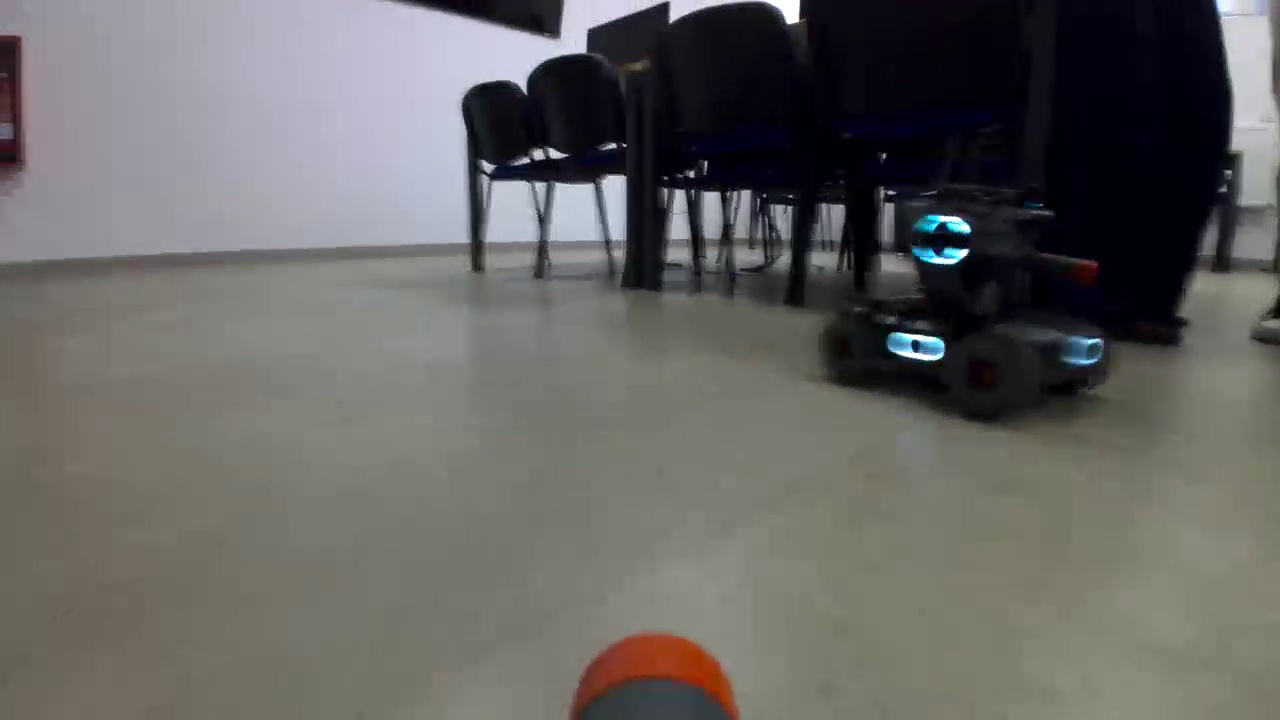robot: (818, 185, 1110, 425)
